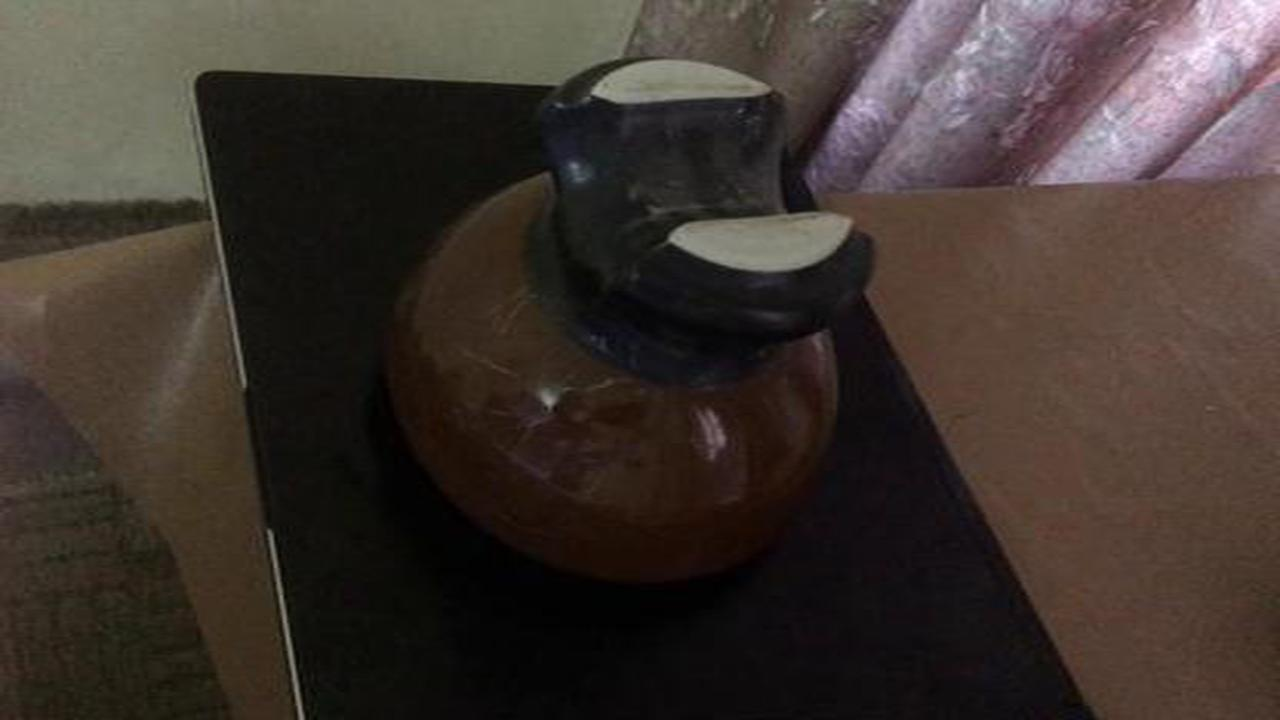insulator_pin: (367, 42, 896, 608)
